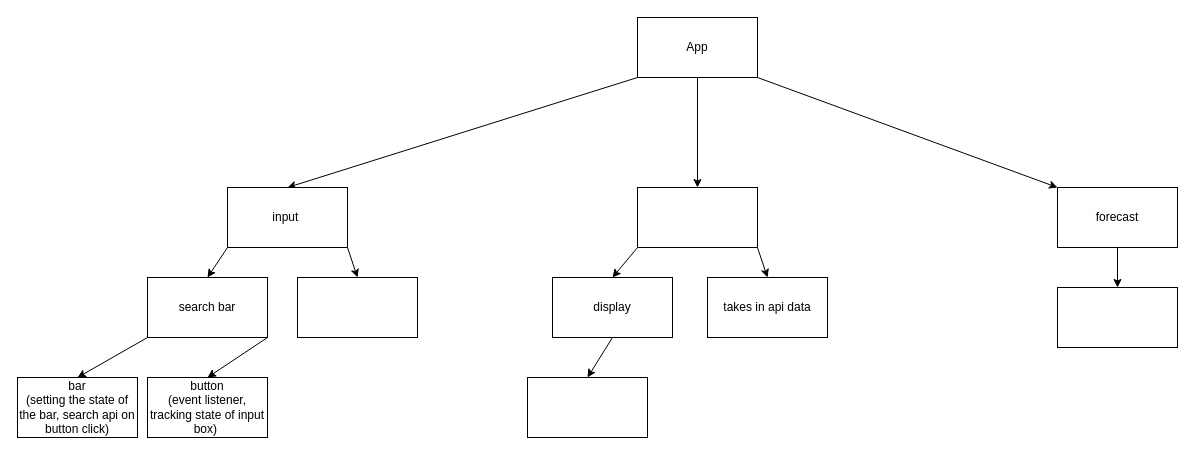
This 1195x455 diagram has some shape labels left out. Here are the shapes that lost their labels. From the top down, the centre of each, then its label:
At point (697, 217): "current conditions".
At point (357, 307): "takes in api and displays current conditions".
At point (1117, 317): "display props".
At point (587, 407): "icon, description, temp wind speed. ect".
